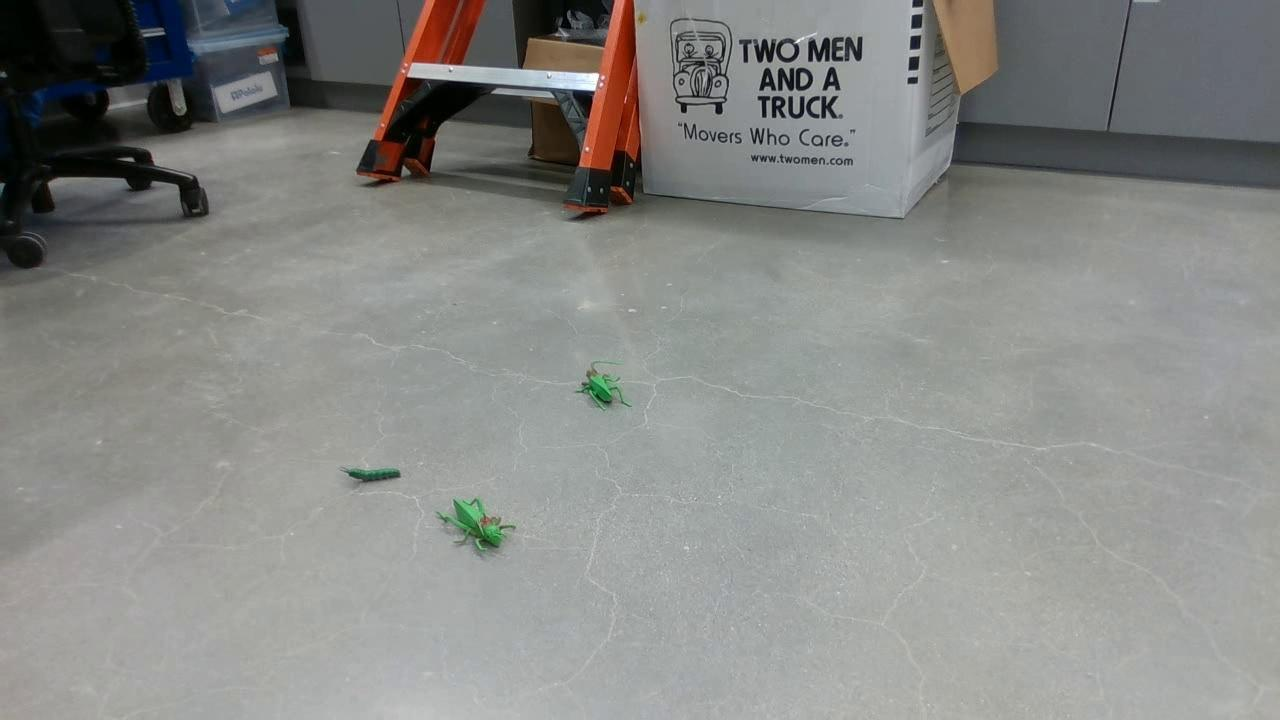grasshopper: (433, 494, 527, 554), (573, 362, 637, 411)
